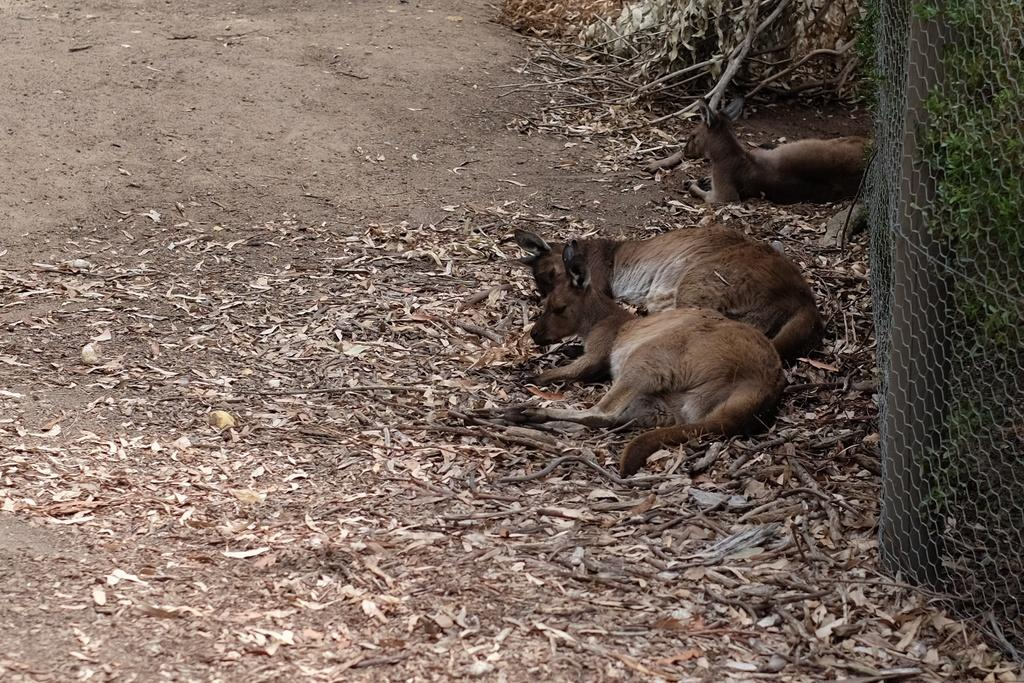kangaroo: (498, 260, 770, 470), (506, 229, 824, 374), (678, 100, 876, 204)
